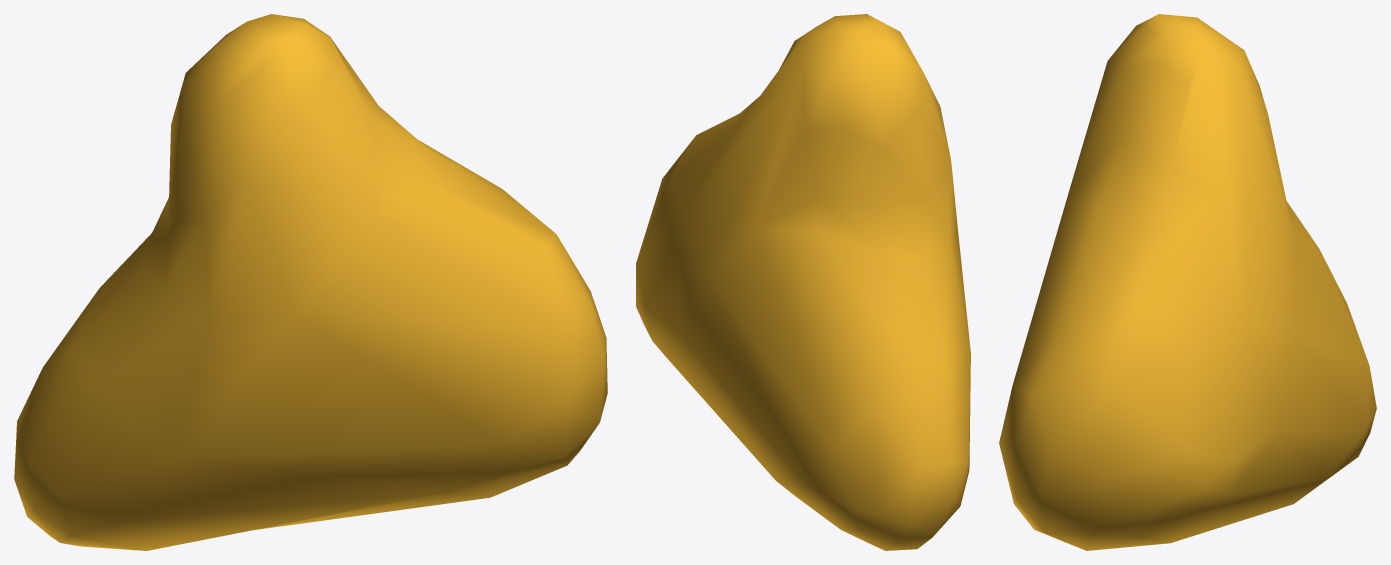
Rendered from nervoso-ampulla-of-lacrimal-canaliculus-r.glb.
The picture shows the model from 3 angles, left to right: view 1: azimuth 30°, elevation 25°; view 2: azimuth 150°, elevation 25°; view 3: azimuth 270°, elevation 25°; orthographic projection. The views are drawn at different scales.
Visible parts, largest first — view 1: Ampulla of lacrimal canaliculus.r; view 2: Ampulla of lacrimal canaliculus.r; view 3: Ampulla of lacrimal canaliculus.r.
Boxes of the visible parts, <box> form: Ampulla of lacrimal canaliculus.r: <box>14,14,607,550</box>; Ampulla of lacrimal canaliculus.r: <box>636,14,970,550</box>; Ampulla of lacrimal canaliculus.r: <box>999,14,1376,550</box>.
Size of the model in its own units: 0.00303 by 0.00339 by 0.0023.
